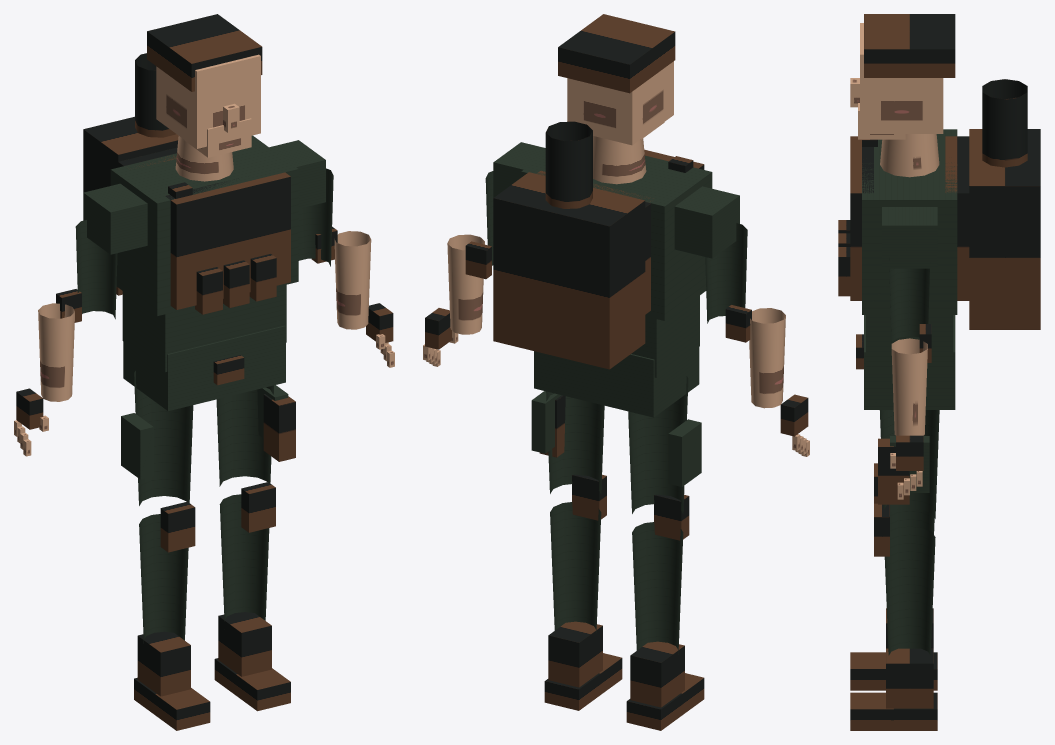
The model's file is EthanCross_LOD1.obj.
The picture shows the model from 3 angles, left to right: view 1: azimuth 30°, elevation 25°; view 2: azimuth 150°, elevation 25°; view 3: azimuth 270°, elevation 25°; orthographic projection. The views are drawn at different scales.
Parts seen in each view (by area): view 1: EthanCross_Anatomical_LOD1; view 2: EthanCross_Anatomical_LOD1; view 3: EthanCross_Anatomical_LOD1.
Part boxes in pixels (x1,y1,x2,y2): EthanCross_Anatomical_LOD1: (14,14,394,730); EthanCross_Anatomical_LOD1: (423,14,809,730); EthanCross_Anatomical_LOD1: (838,14,1040,730).
Bounding box in the file's own units: 1.1 × 1.87 × 0.51.
